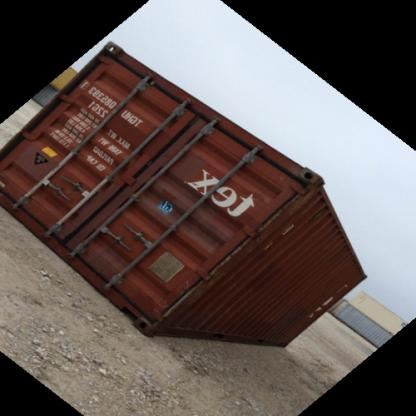Damage: (75, 250, 129, 278), (178, 270, 196, 296), (153, 297, 171, 319)
